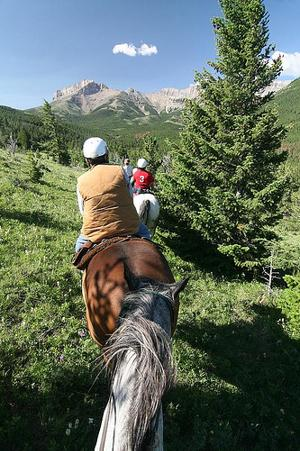person: (74, 135, 152, 259)
